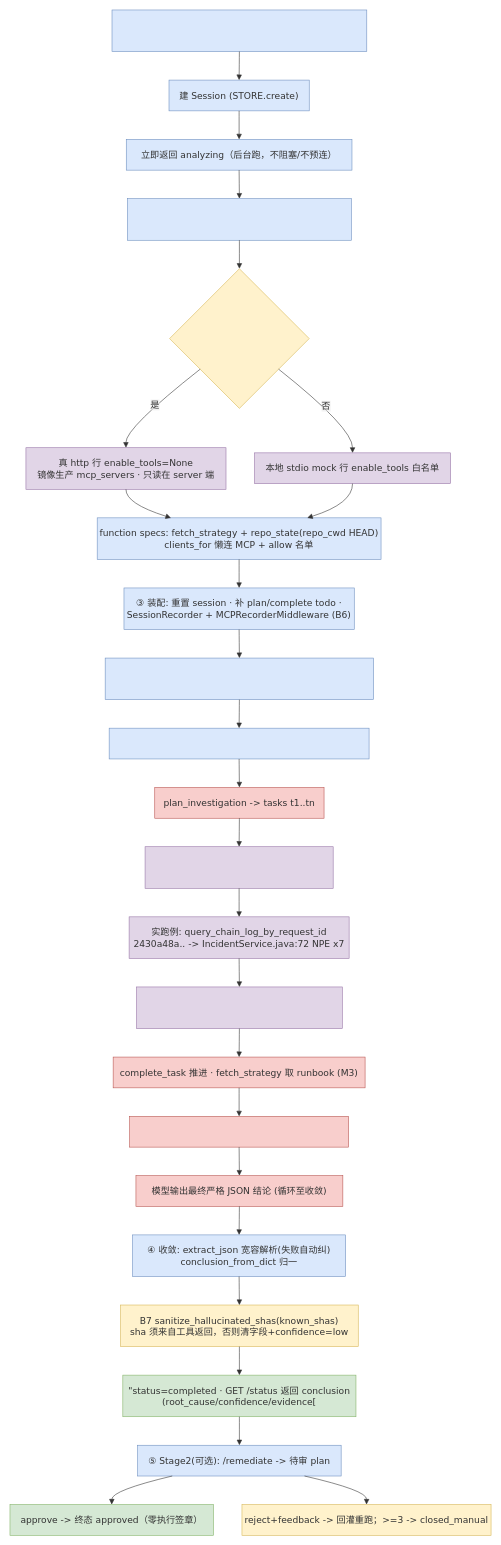
The diagram is 501 pixels wide and 1545 high, and some of its shapes have lost their labels. The centre of each missing label's shape, as x and y in pixels:
build_agent: 方法论+契约 system · Toolkit(function+MCP) DONT_ASK · 只读自动 ALLOW: the point at 239,678
env 有真实 MCP url?: the point at 239,338
recorder 写 session.tool_calls -> /status 实时: the point at 239,1131
user 只给定位键(反作弊) -> DeepSeek ReAct(max_iters): the point at 239,743
① 入口｜客户端 POST /diagnose case_type=trace_code + app/repo/trace_id/deployed: the point at 239,30
② 场景解析 _resolve_specs_for servers_for_case_type -> git/app-log 角色行名: the point at 239,219
只读取证 mcpgit-search-mcp-server / mcpapp-log-search-mcp-server: the point at 238,867
实跑例: get_repo_status HEAD=34ab3eec search_code/blame_file 定位引入 commit: the point at 239,1007
